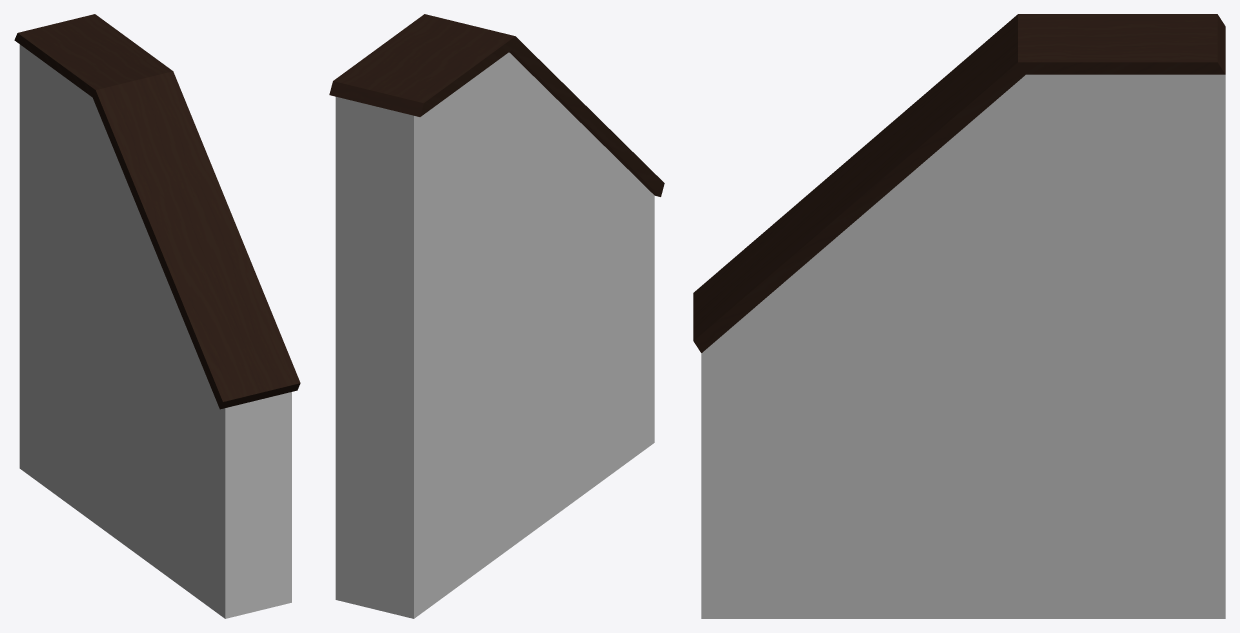
File: Small_Rail_C_09.FBX
3 views of the same model, side by side, from view 1: azimuth 30°, elevation 25°; view 2: azimuth 150°, elevation 25°; view 3: azimuth 270°, elevation 25° (orthographic). The views are drawn at different scales.
Visible parts, largest first — view 1: Small_Rail_01; view 2: Small_Rail_01; view 3: Small_Rail_01.
Boxes of the visible parts, left/top/right/bottom form: Small_Rail_01: left=14, top=14, right=300, bottom=618; Small_Rail_01: left=329, top=14, right=664, bottom=618; Small_Rail_01: left=693, top=14, right=1225, bottom=618.
Bounding box in the file's own units: 2283 × 12352 × 10637.
